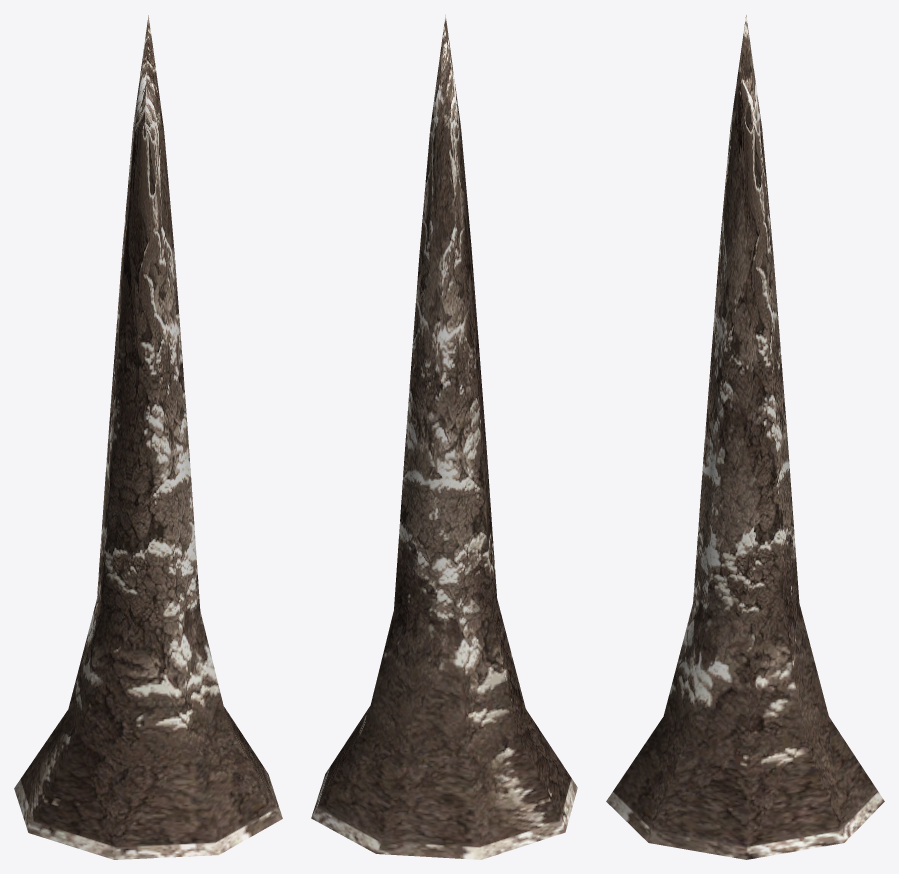
The model's file is stalactite_small1.fbx.
3 views of the same model, side by side, from view 1: azimuth 30°, elevation 25°; view 2: azimuth 150°, elevation 25°; view 3: azimuth 270°, elevation 25° (orthographic).
Parts seen in each view (by area): view 1: mesh_0; view 2: mesh_0; view 3: mesh_0.
Boxes of the visible parts, x1,y1,x2,y2 form: mesh_0: (14, 15, 282, 859); mesh_0: (311, 14, 577, 859); mesh_0: (606, 15, 884, 859).
Bounding box in the file's own units: 55.48 × 174 × 55.89.
Materials: 1 (1 with a texture image).
